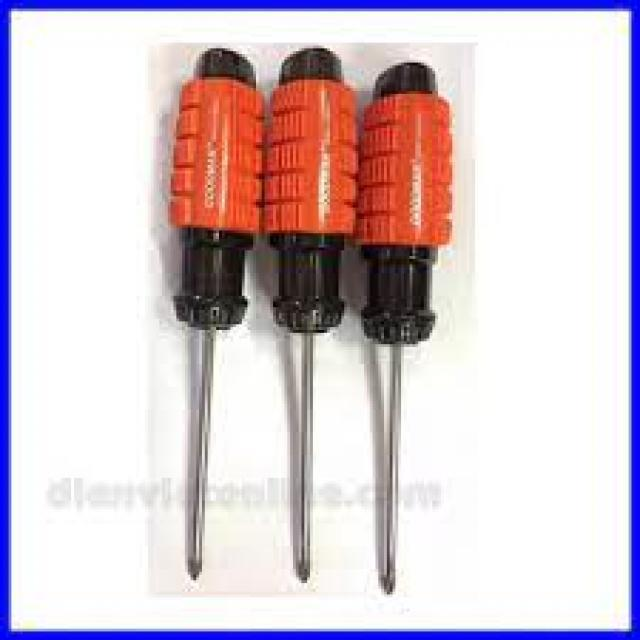screwdriver: (262, 45, 362, 586), (167, 41, 260, 588), (360, 58, 454, 599)
